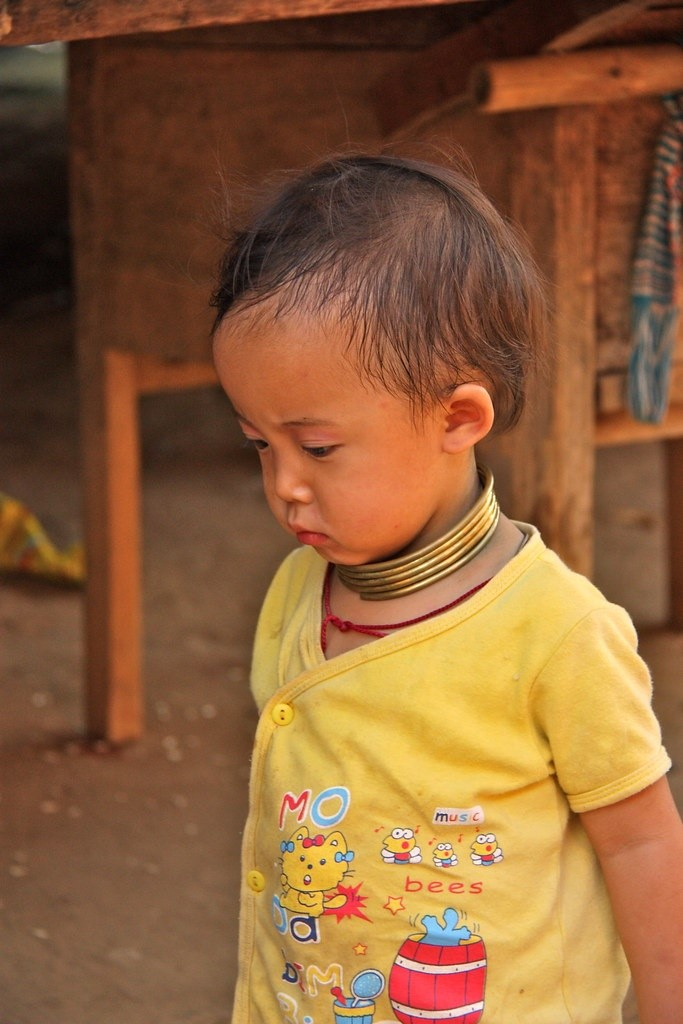face_no_mask: (210, 162, 531, 569)
